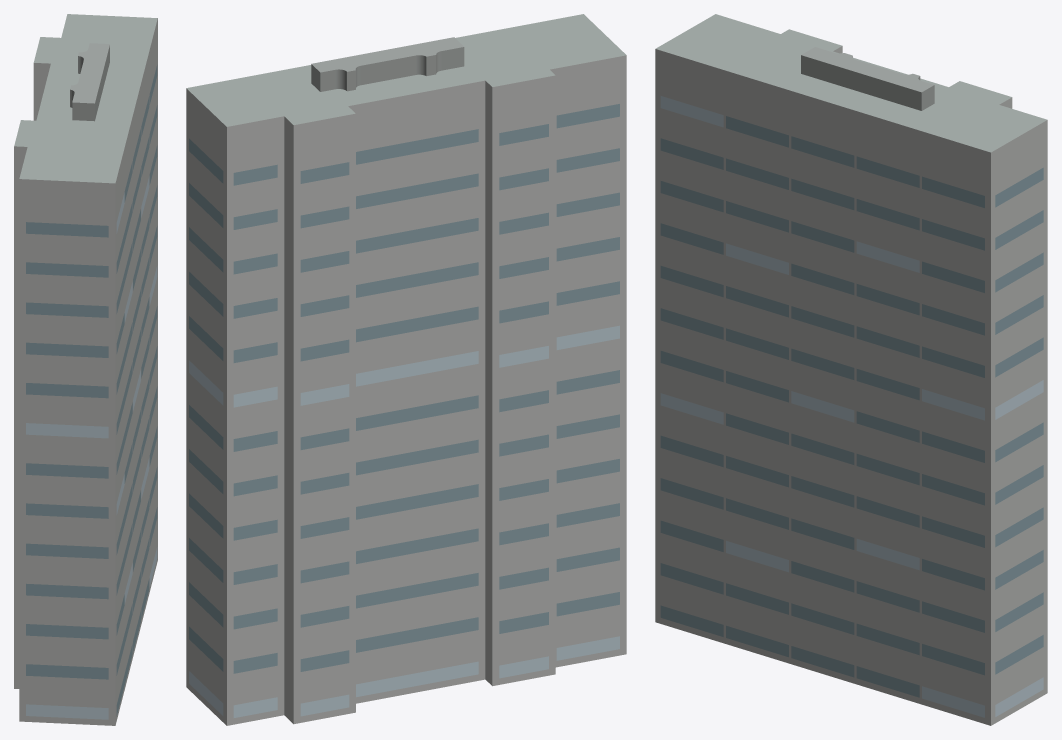
File: fallback-jamsil-trizium-323.glb
The picture shows the model from 3 angles, left to right: view 1: azimuth 30°, elevation 25°; view 2: azimuth 150°, elevation 25°; view 3: azimuth 270°, elevation 25°; orthographic projection. The views are drawn at different scales.
Visible parts, largest first — view 1: fallback-jamsil-trizium-323; view 2: fallback-jamsil-trizium-323; view 3: fallback-jamsil-trizium-323.
Boxes of the visible parts, x1,y1,x2,y2 form: fallback-jamsil-trizium-323: (14,14,157,725); fallback-jamsil-trizium-323: (186,14,626,725); fallback-jamsil-trizium-323: (655,14,1047,725).
Bounding box in the file's own units: 38.16 × 76 × 45.65.
